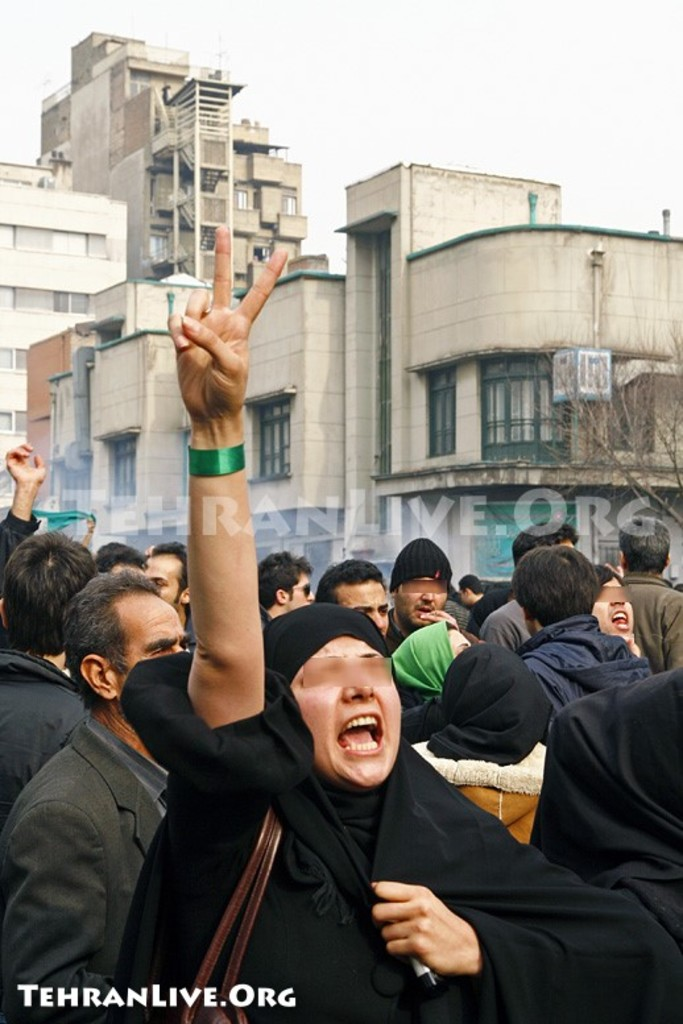Human_hand: (165, 221, 290, 420), (368, 878, 484, 977), (5, 439, 46, 490), (418, 609, 458, 625)
